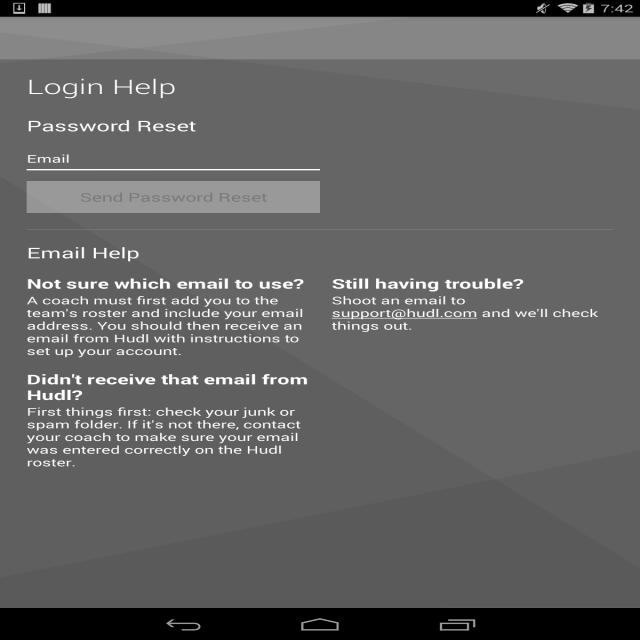Button: (136, 358, 504, 390), (27, 181, 320, 213)
EditText: (136, 274, 504, 289), (136, 319, 504, 334), (27, 151, 320, 166)
ImageButton: (9, 17, 68, 59)
ImageView: (0, 17, 640, 608), (282, 202, 358, 250)
TextView: (27, 404, 308, 470), (27, 293, 308, 358), (332, 293, 613, 333), (27, 243, 613, 262), (27, 370, 308, 404), (27, 274, 308, 292), (332, 274, 613, 292), (27, 72, 176, 100), (27, 116, 196, 135), (244, 410, 396, 422)
